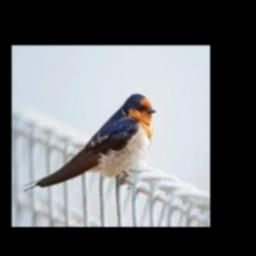Swallow: (22, 94, 156, 192)
